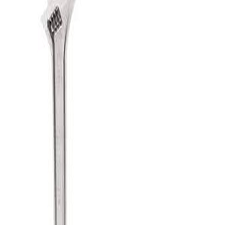Wrench: (32, 2, 84, 225)
